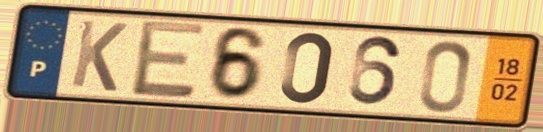0: (277, 29, 336, 107), (417, 38, 475, 115)
6: (202, 24, 273, 103), (347, 33, 403, 111)
E: (129, 17, 209, 101)
K: (67, 17, 131, 95)
